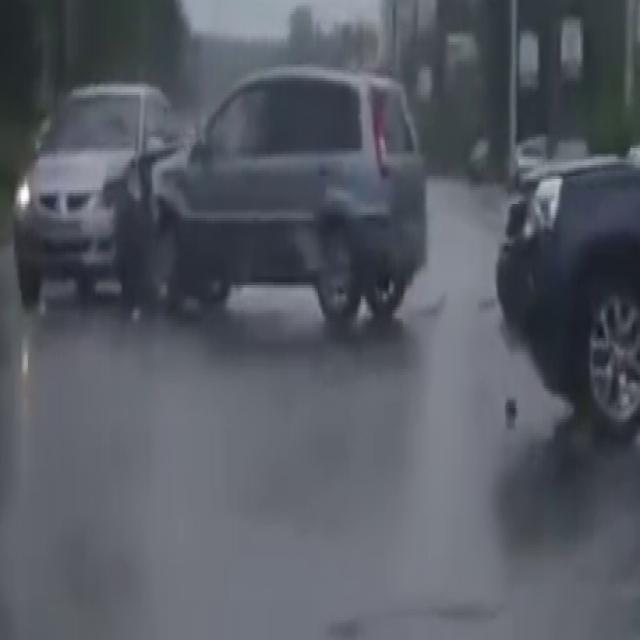accident: (9, 62, 364, 338)
